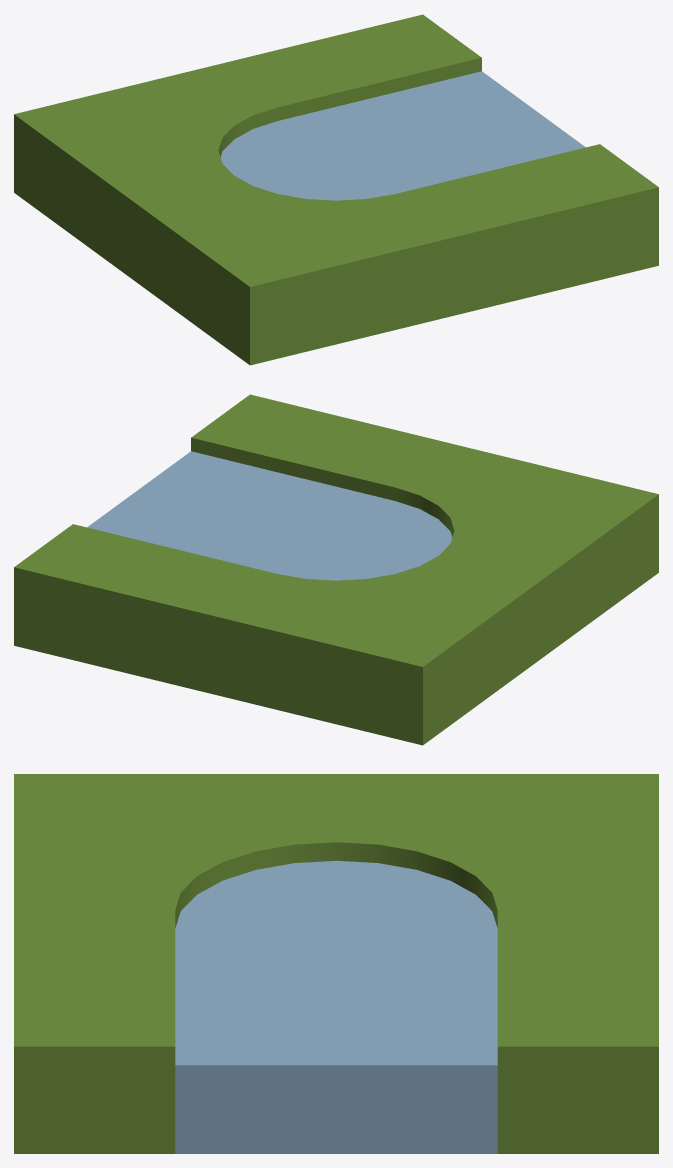
File: roadTile_158.obj
3 renders of one model, top to bottom at view 1: azimuth 30°, elevation 25°; view 2: azimuth 150°, elevation 25°; view 3: azimuth 270°, elevation 25°, orthographic. The views are drawn at different scales.
Parts seen in each view (by area): view 1: Mesh1_Group1_Model.178; view 2: Mesh1_Group1_Model.178; view 3: Mesh1_Group1_Model.178.
Boxes of the visible parts, bbox=[...] form: Mesh1_Group1_Model.178: bbox=[14, 14, 658, 365]; Mesh1_Group1_Model.178: bbox=[14, 394, 658, 745]; Mesh1_Group1_Model.178: bbox=[14, 774, 658, 1153].
Size of the model in its own units: 3 by 0.55 by 3.
